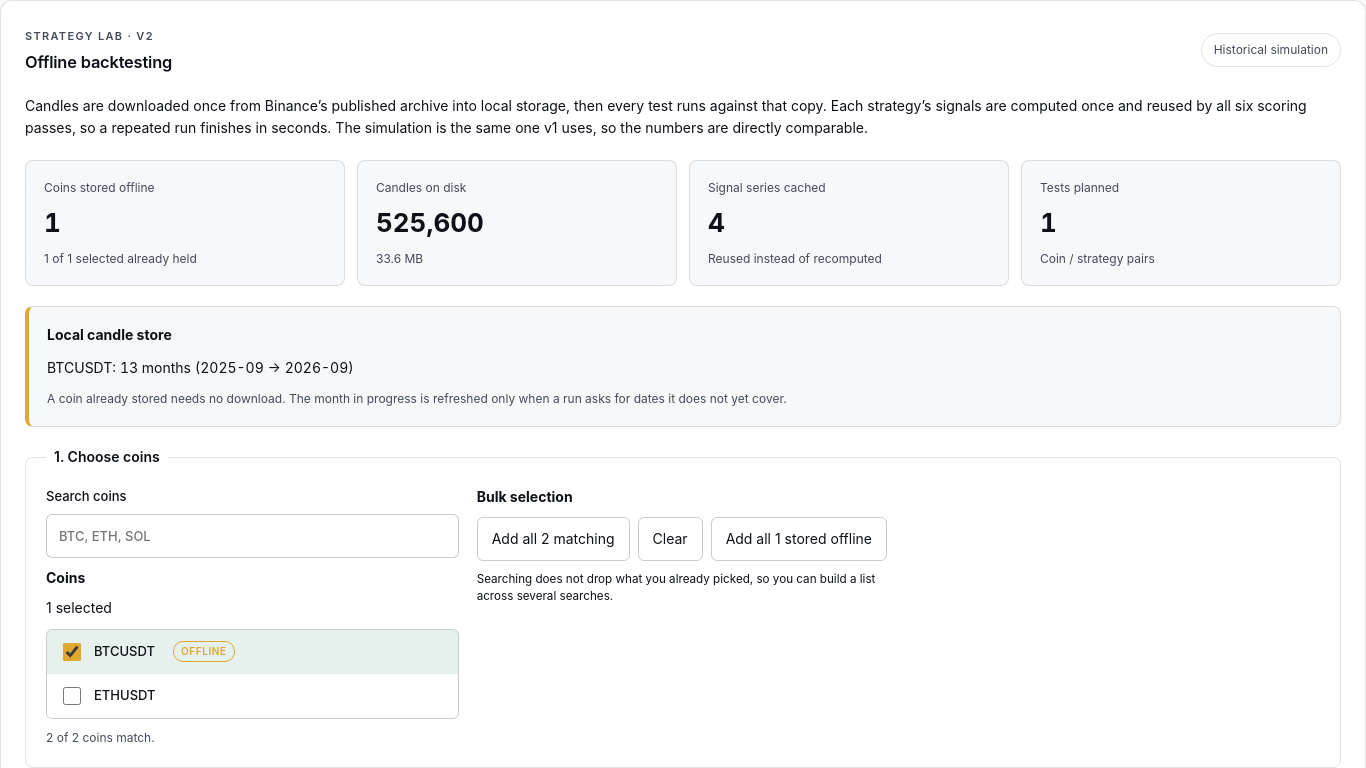
Test case: warns that an unstored coin has to be downloaded first
Click the checkbox labelled "ETHUSDT". click: x=72, y=696
box: [63,687,81,705]
(page scrolled)
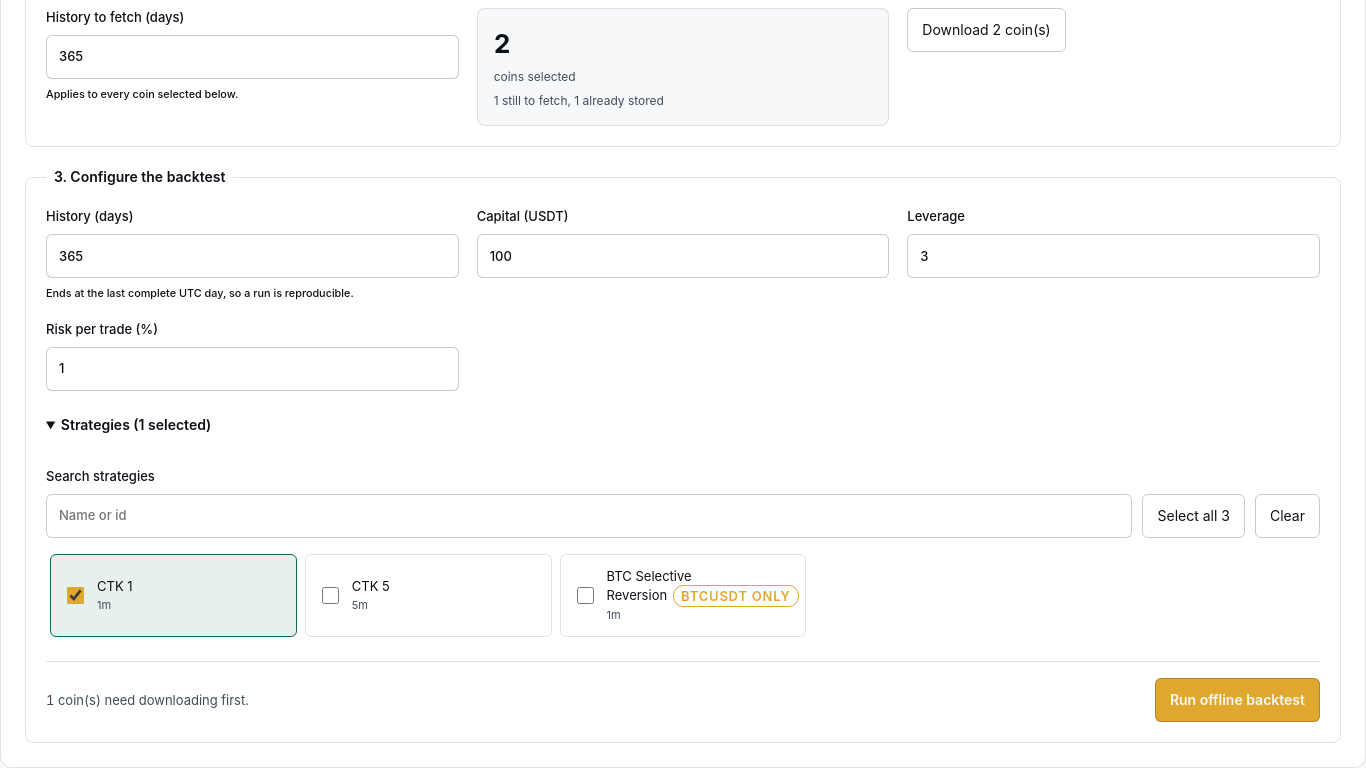
Check: the text "1 coin(s) need downloading first." is shown, box [46,691,249,710]
